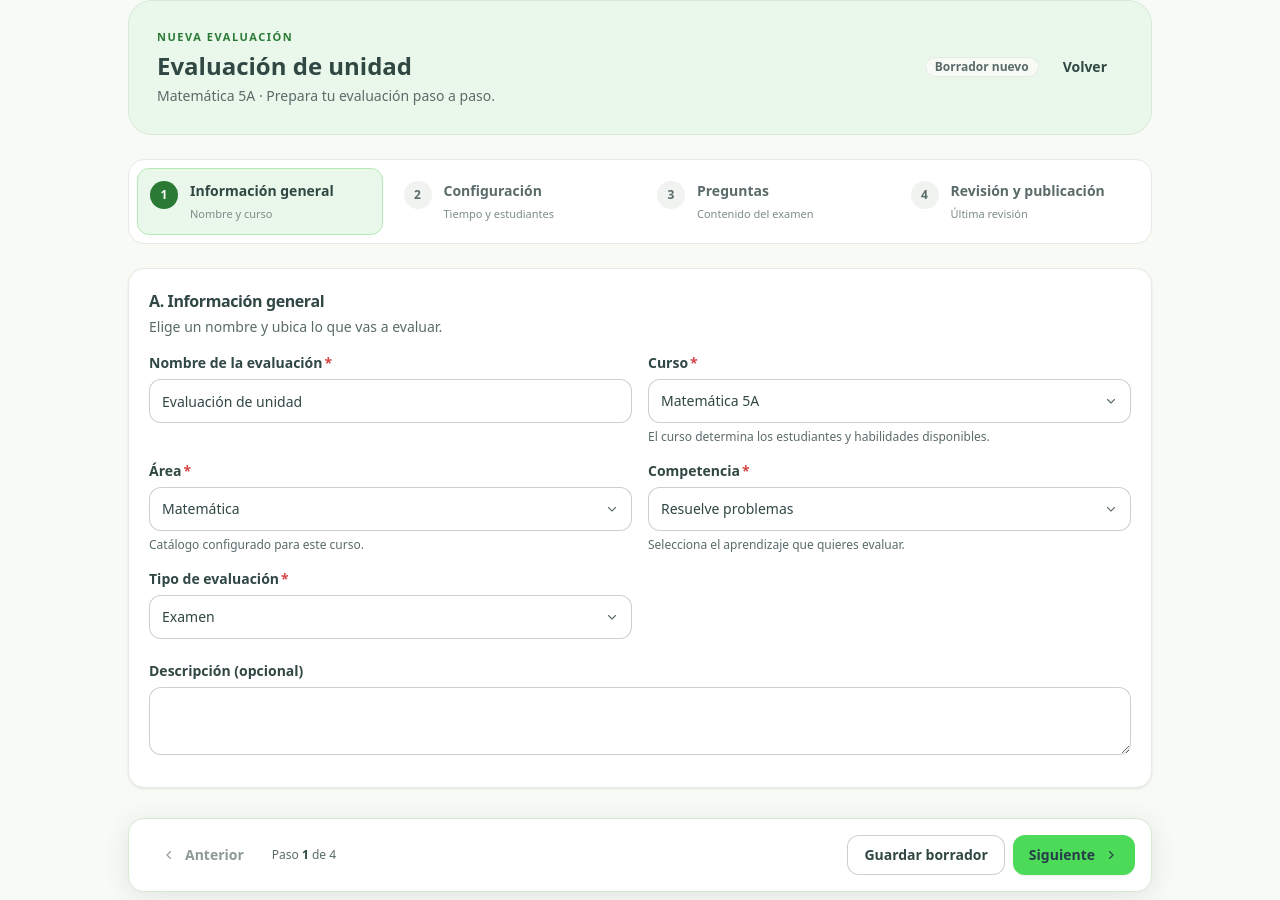
AssessmentEditor › filters names without losing selected students and selects the whole course
Click the button with aria-label "2. Configuración": (513, 201) [390,168,636,235]
(page scrolled)
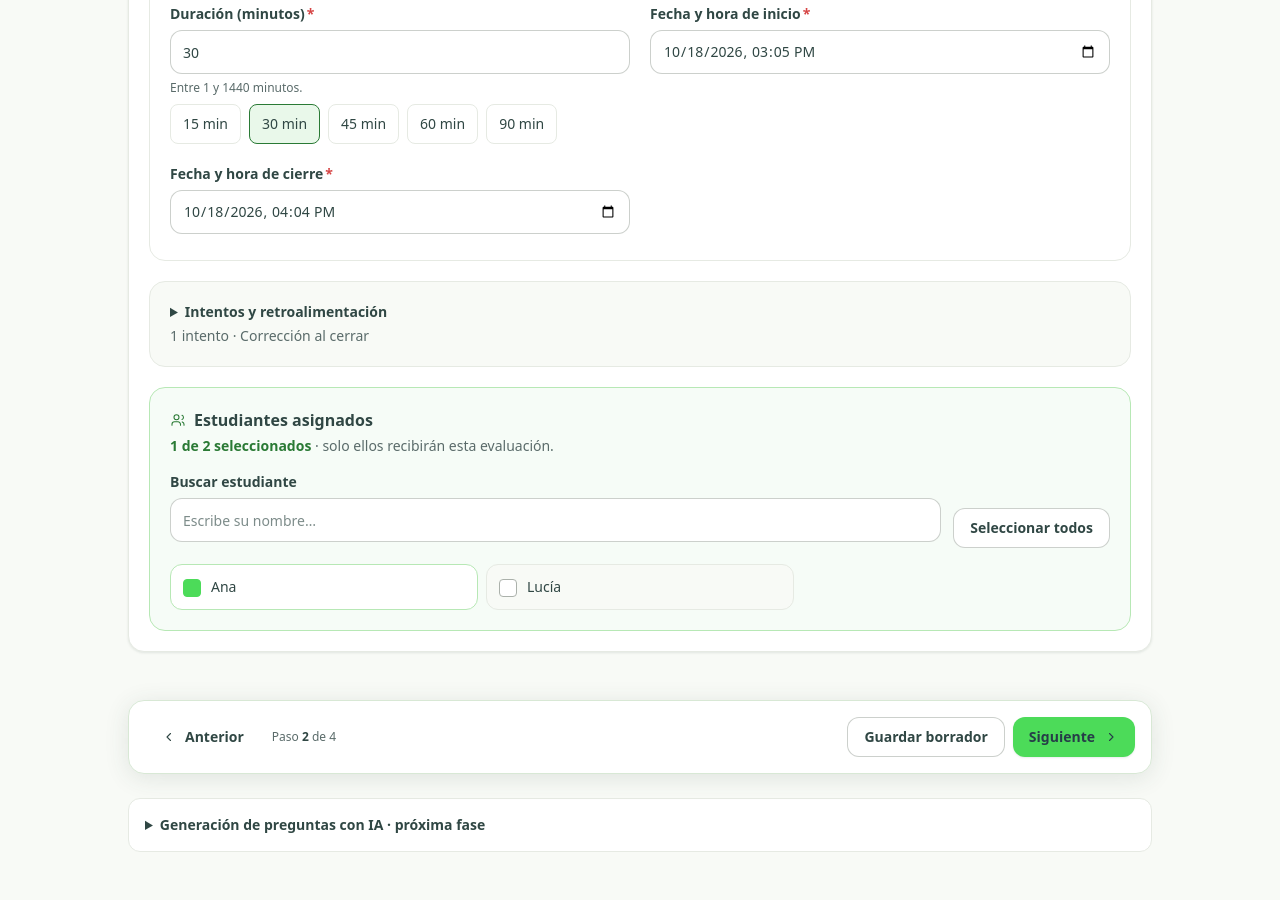
In the search field labelled "Buscar estudiante": (556, 520) [170,498,941,542], type "LUCIA"
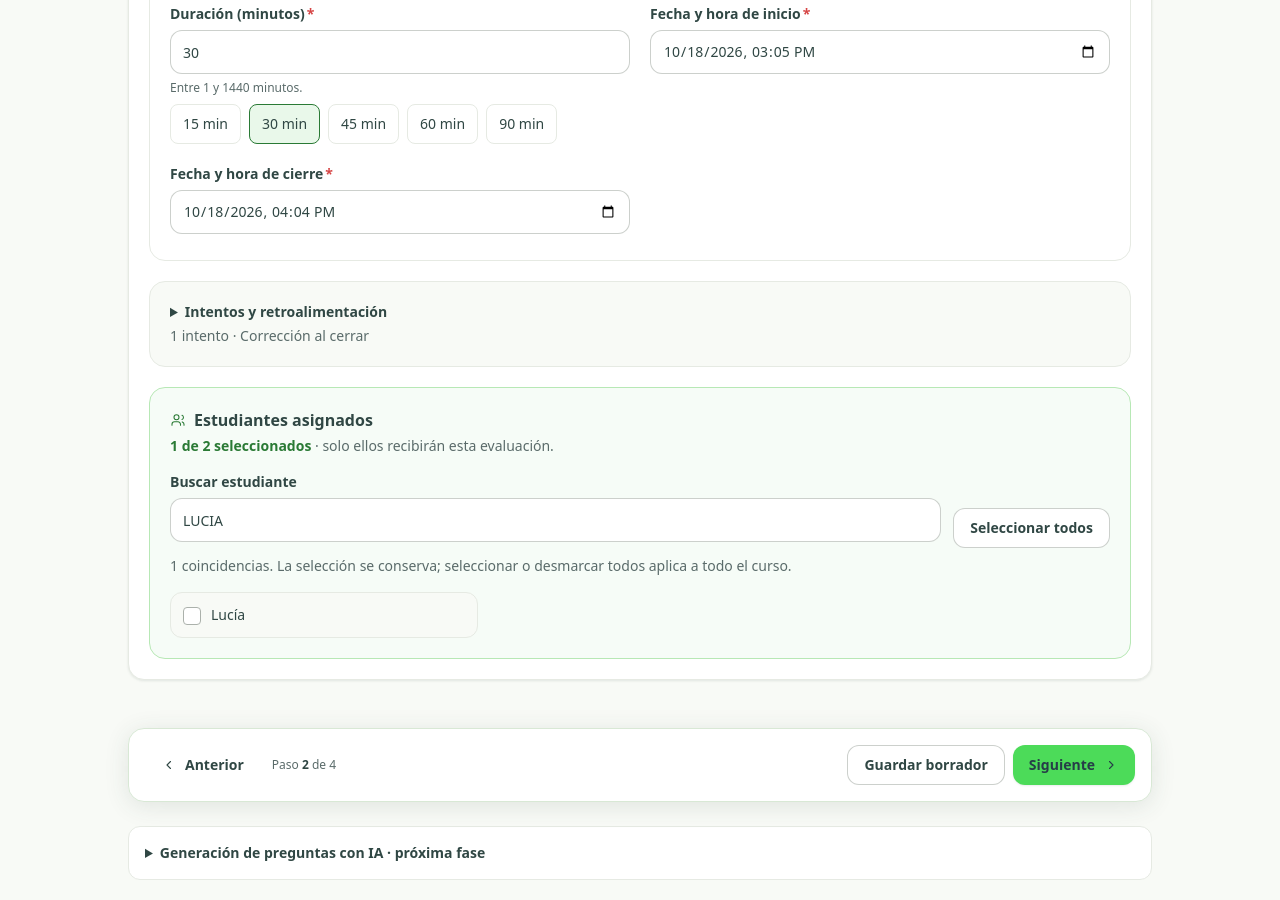
expect the checkbox labelled "Lucía" is not checked: met, box [183,607,201,625]
expect the text "1 de 2 seleccionados" is shown: met, box [170,436,311,455]
expect the text "Ana" is gone: met
Click the button "Seleccionar todos": (1032, 528) [953,508,1110,548]
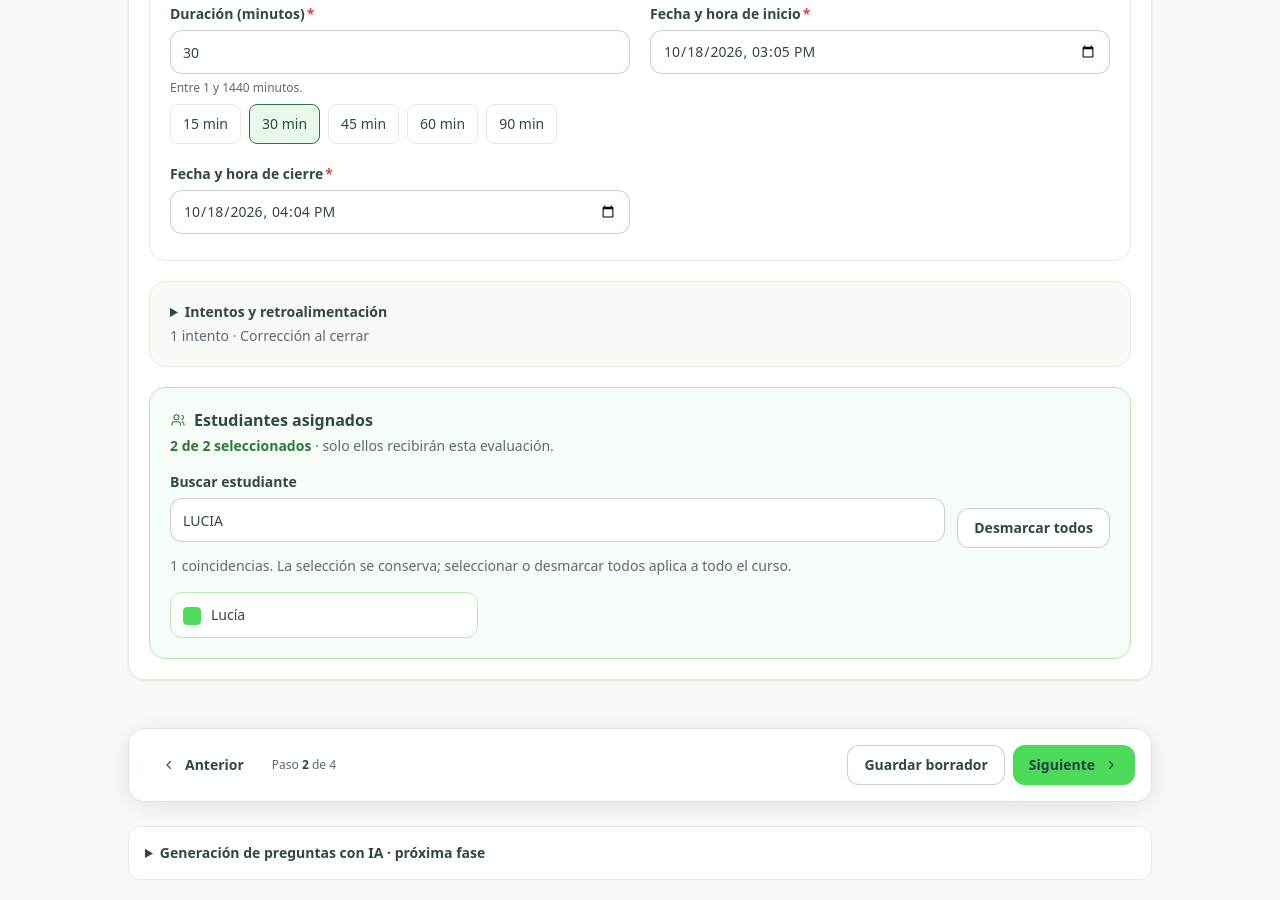
Clear the search field labelled "Buscar estudiante": (558, 520) [170,498,945,542]
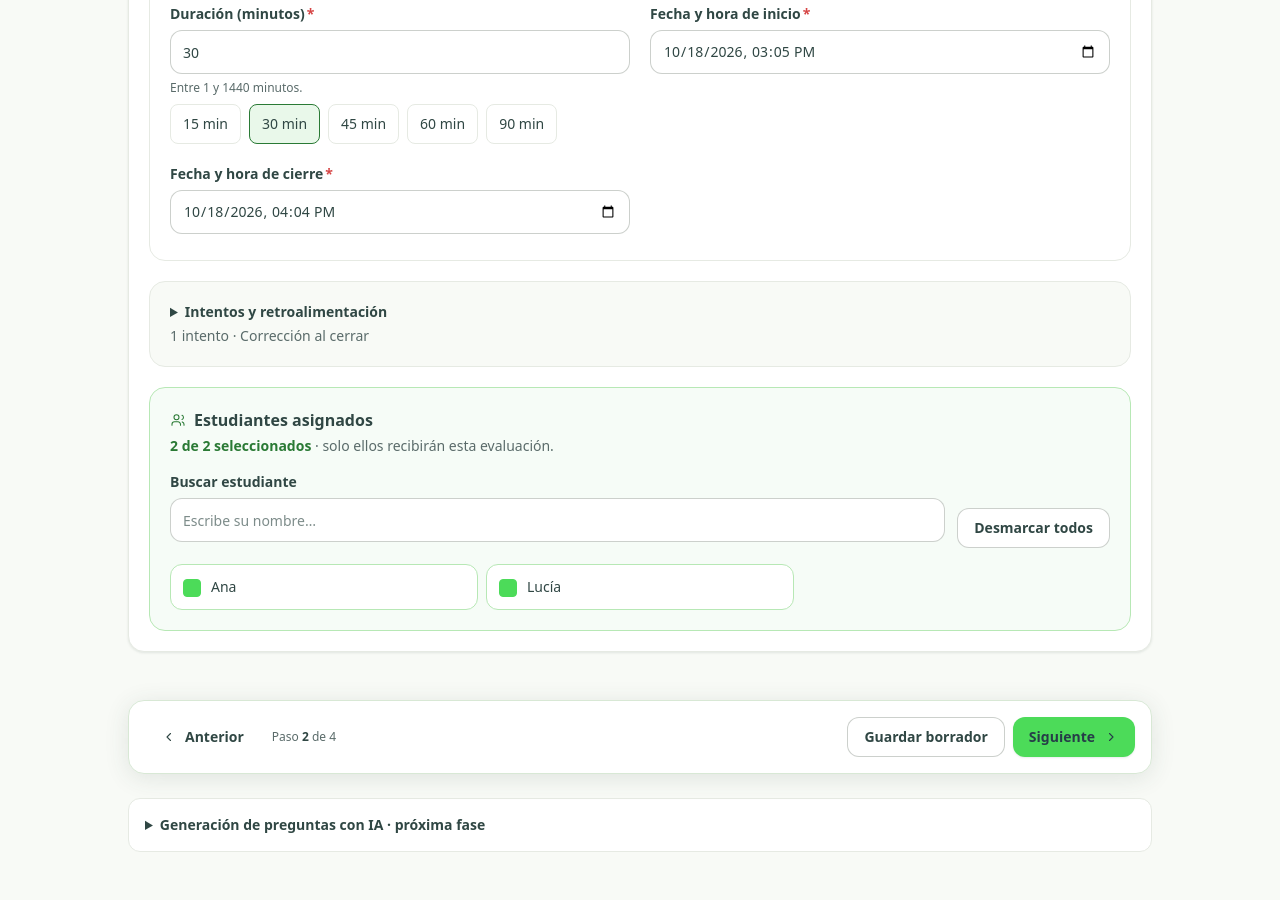
expect the checkbox labelled "Lucía" is checked: met, box [499,579,517,597]
expect the checkbox labelled "Ana" is checked: met, box [183,579,201,597]
In the search field labelled "Buscar estudiante": (558, 520) [170,498,945,542], type "inexistente"
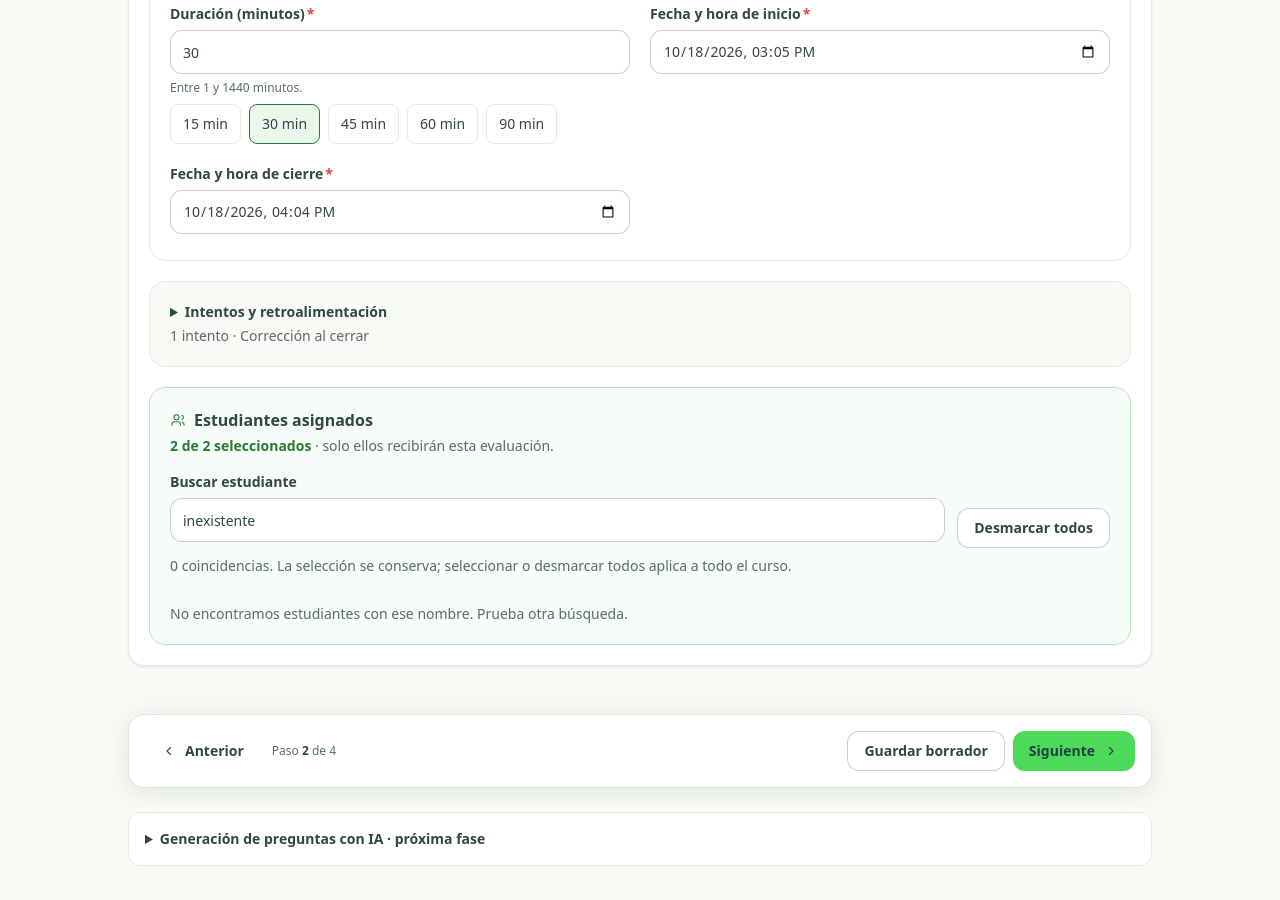
expect the text "2 de 2 seleccionados" is shown: met, box [170,436,311,455]
expect the text "No encontramos estudiantes" is shown: met, box [170,604,628,623]
